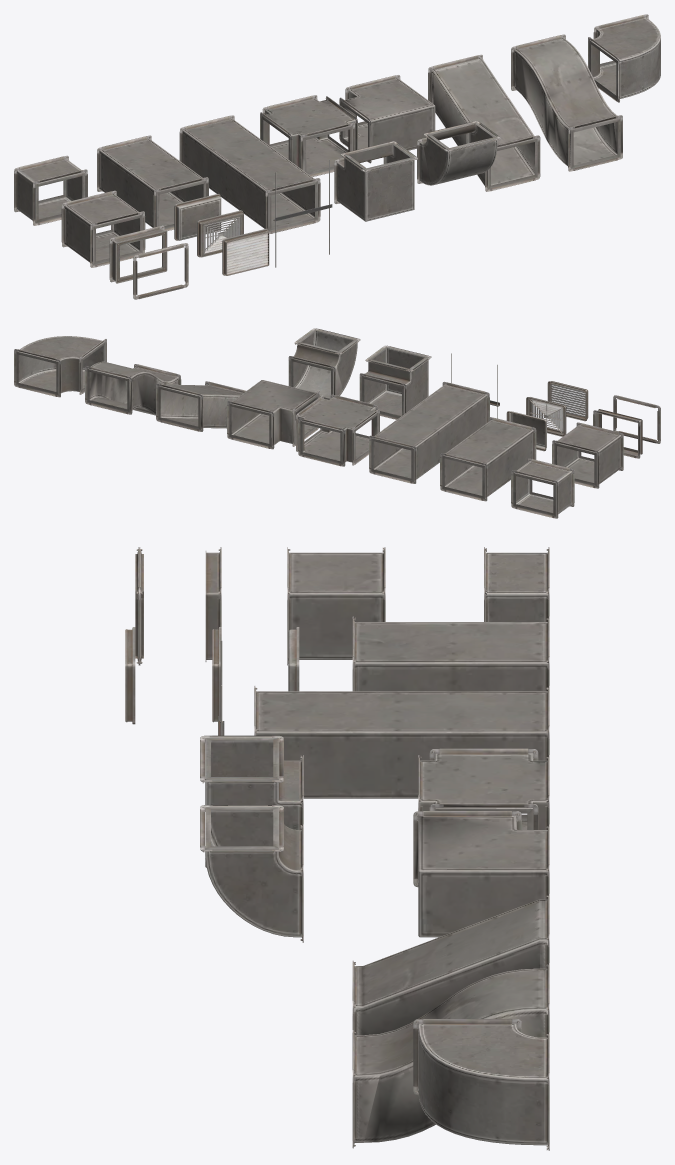
The model's file is modular_airduct_rectangular_01.glb.
3 renders of one model, top to bottom at view 1: azimuth 30°, elevation 25°; view 2: azimuth 150°, elevation 25°; view 3: azimuth 270°, elevation 25°, orthographic. The views are drawn at different scales.
Parts seen in each view (by area): view 1: modular_airduct_rectangular_01_single_01; view 2: modular_airduct_rectangular_01_single_01; view 3: modular_airduct_rectangular_01_single_01.
Part boxes in pixels (x1,y1,x2,y2): modular_airduct_rectangular_01_single_01: (14,14,660,299); modular_airduct_rectangular_01_single_01: (14,328,660,518); modular_airduct_rectangular_01_single_01: (125,547,549,1150).
Bounding box in the file's own units: 7.66 × 1.26 × 2.59.
2 materials, 2 textured.
